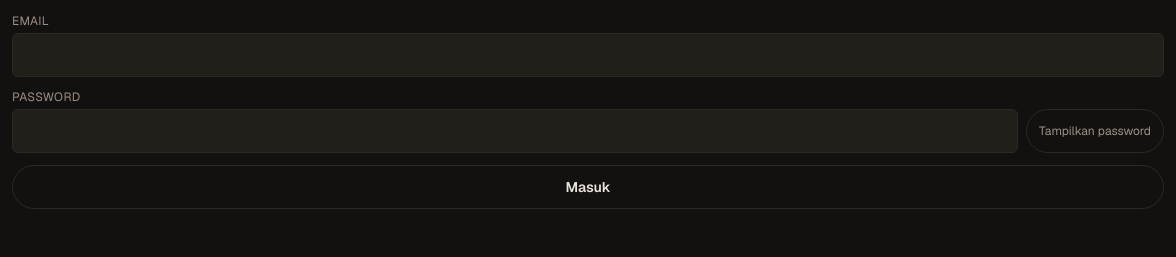
CredentialsForm › mempertahankan email yang sudah diisi setelah login ditolak
Type "hilmi@example.com" into the field labelled "Email" at (588, 55), box [12,33,1164,77]
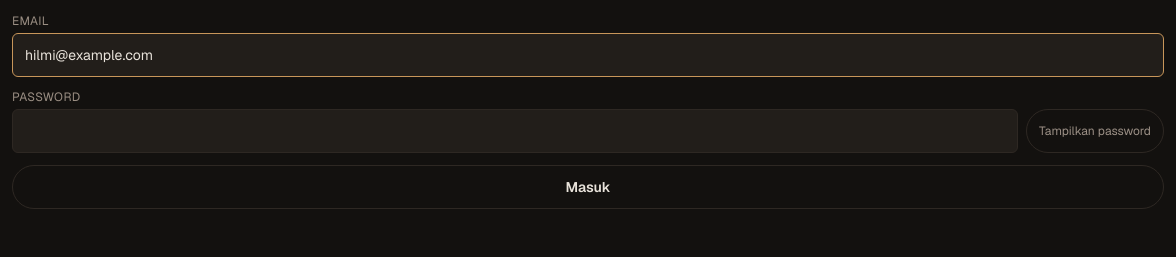
Type "secret123" into the password field labelled "Password" at (515, 131), box [12,109,1018,153]
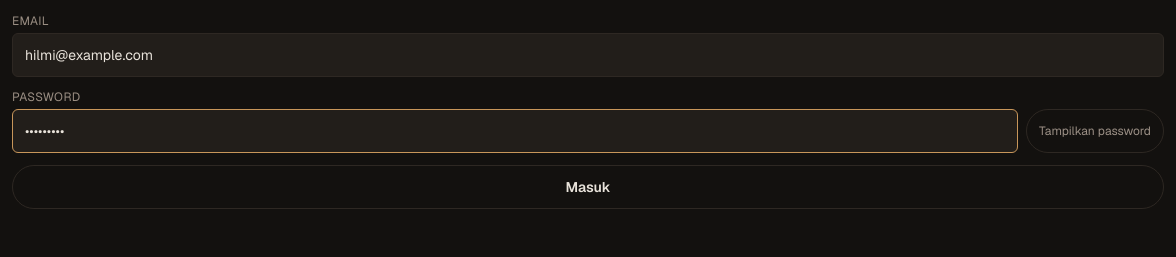
Click the button "Masuk" at (588, 187), box [12,165,1164,209]
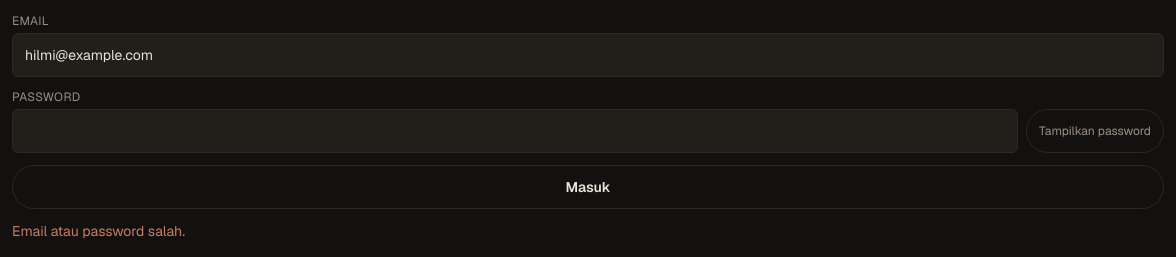
Result: the message reads "Email atau password salah." at [12,222,185,240]
